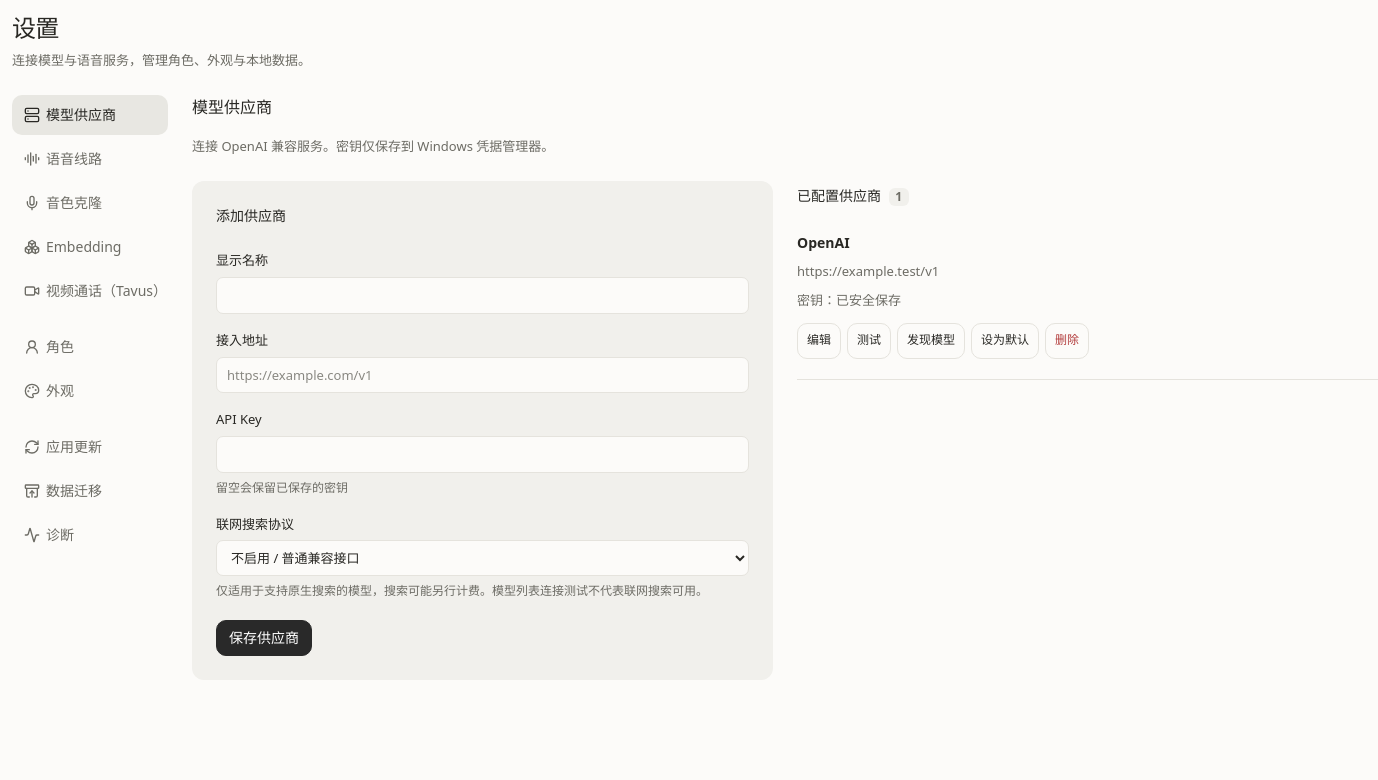
Test: SettingsPage service categories › loads an existing provider into the editor without exposing its key
This screenshot has width=1378, height=780.
Click the button with aria-label "编辑 OpenAI". click: {"x": 819, "y": 341}
box: [797,323,841,359]
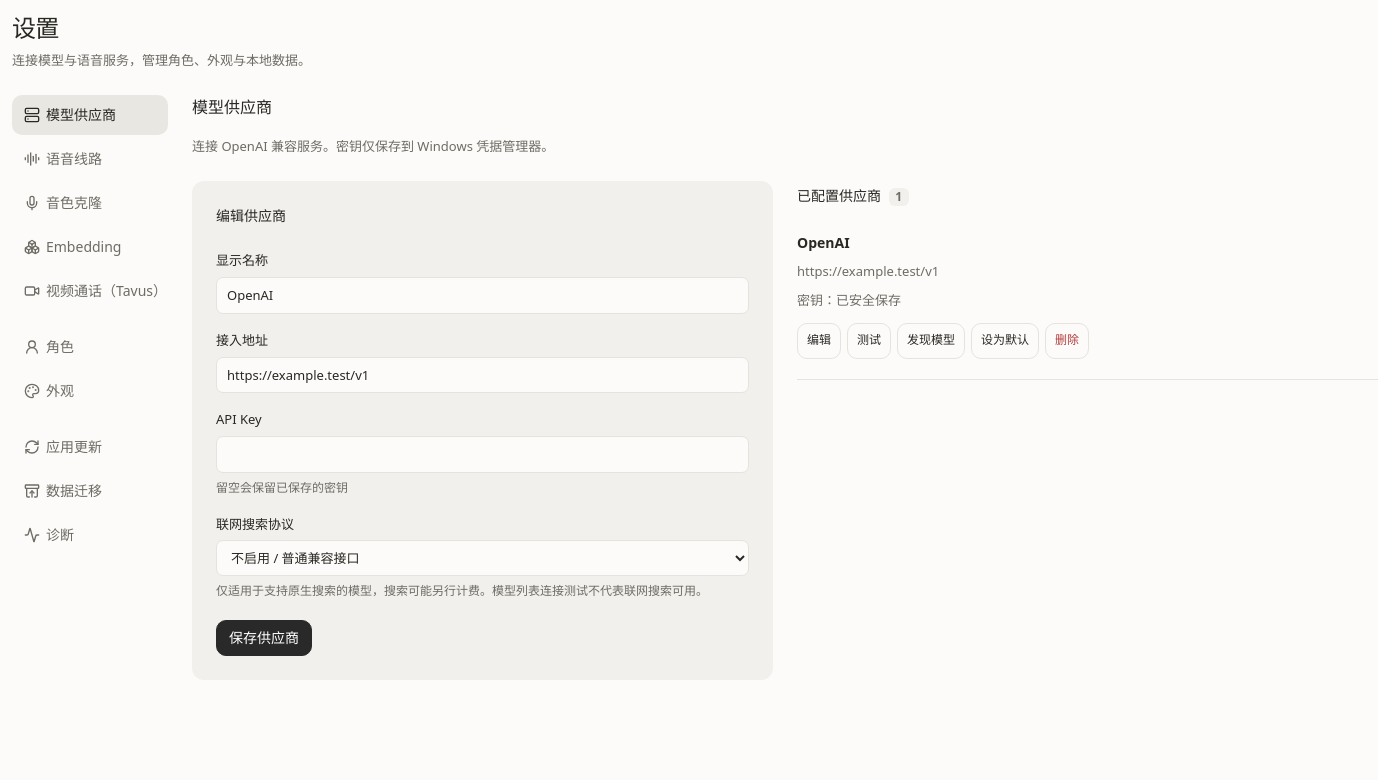
Expected: the password field labelled "API Key 留空会保留已保存的密钥" is empty, [216,436,749,473]
Expected: the field labelled "显示名称" holds "OpenAI", [216,277,749,314]
